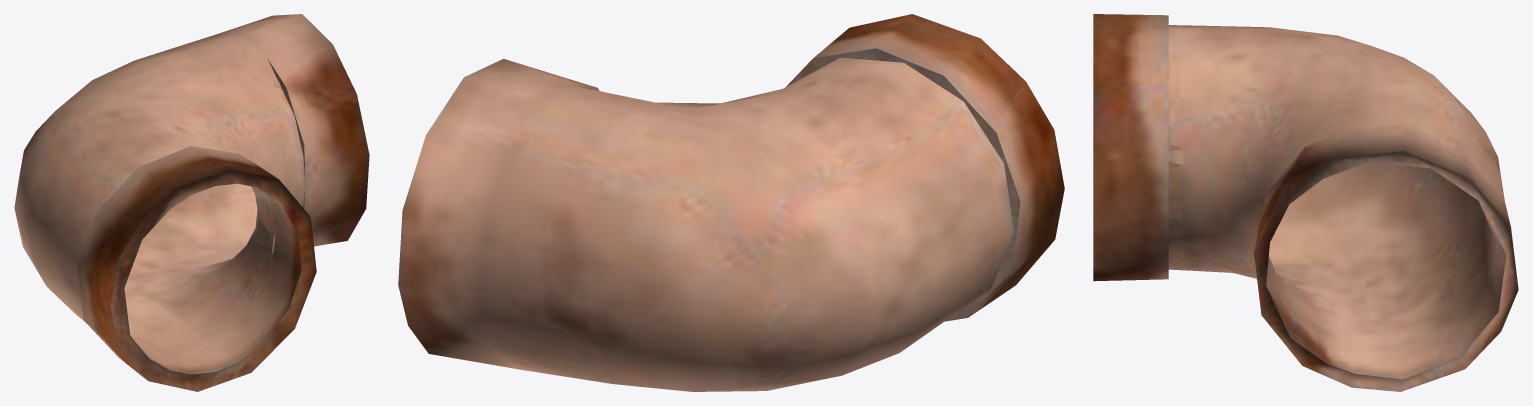
The model's file is small_copper_pipe_01.glb.
3 views of the same model, side by side, from view 1: azimuth 30°, elevation 25°; view 2: azimuth 150°, elevation 25°; view 3: azimuth 270°, elevation 25° (orthographic). The views are drawn at different scales.
Parts seen in each view (by area): view 1: small_copper_pipe_01; view 2: small_copper_pipe_01; view 3: small_copper_pipe_01.
Part boxes in pixels (x1,y1,x2,y2): small_copper_pipe_01: [14, 14, 369, 391]; small_copper_pipe_01: [398, 14, 1064, 391]; small_copper_pipe_01: [1093, 14, 1518, 391].
Size of what is drawn, in the model's own units: 0.0344 by 0.0215 by 0.0344.
1 material, 1 textured.
